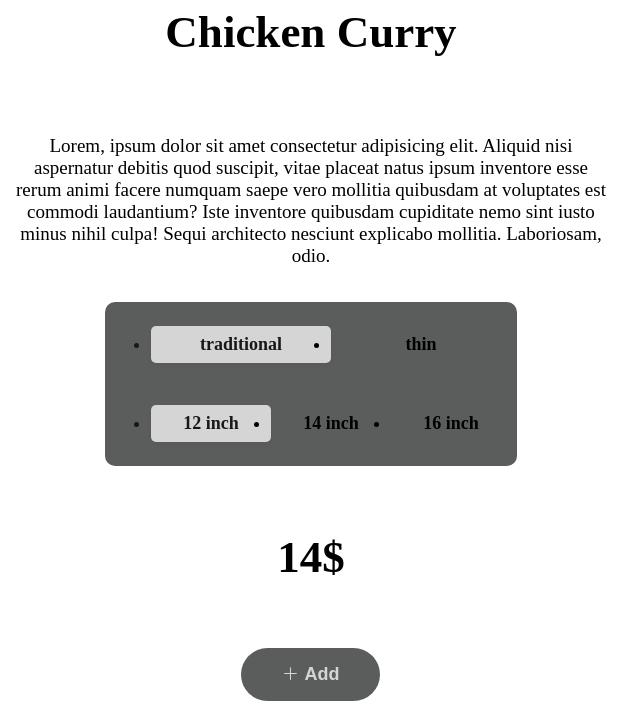
Test: FullProduct tests › FullProduct price changing › should choose new type
This screenshot has width=623, height=704.
(page scrolled)
Click the list item "thin": click(421, 344) [406,334,436,354]
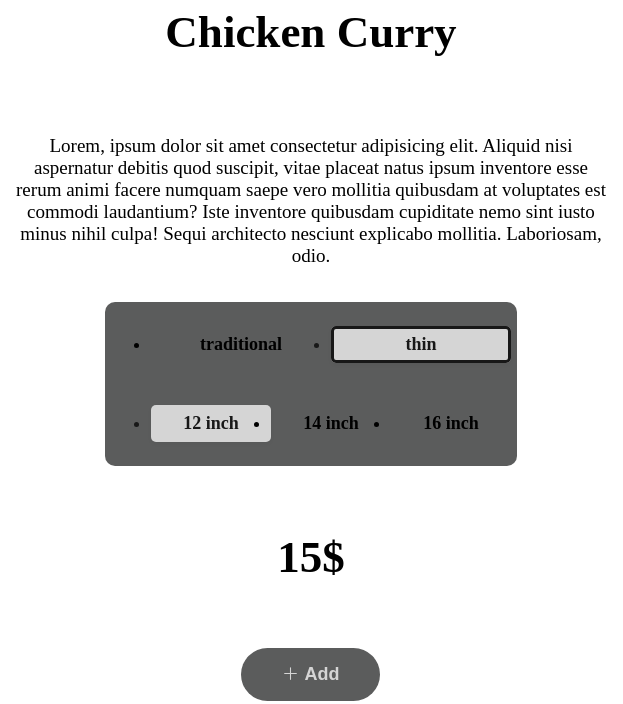
Expected: the heading "15$" is shown, [277,531,345,583]
